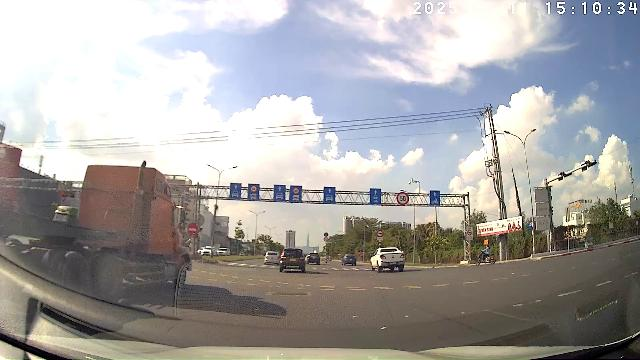127-toc-do-toi-da-50: (397, 192, 409, 205)
